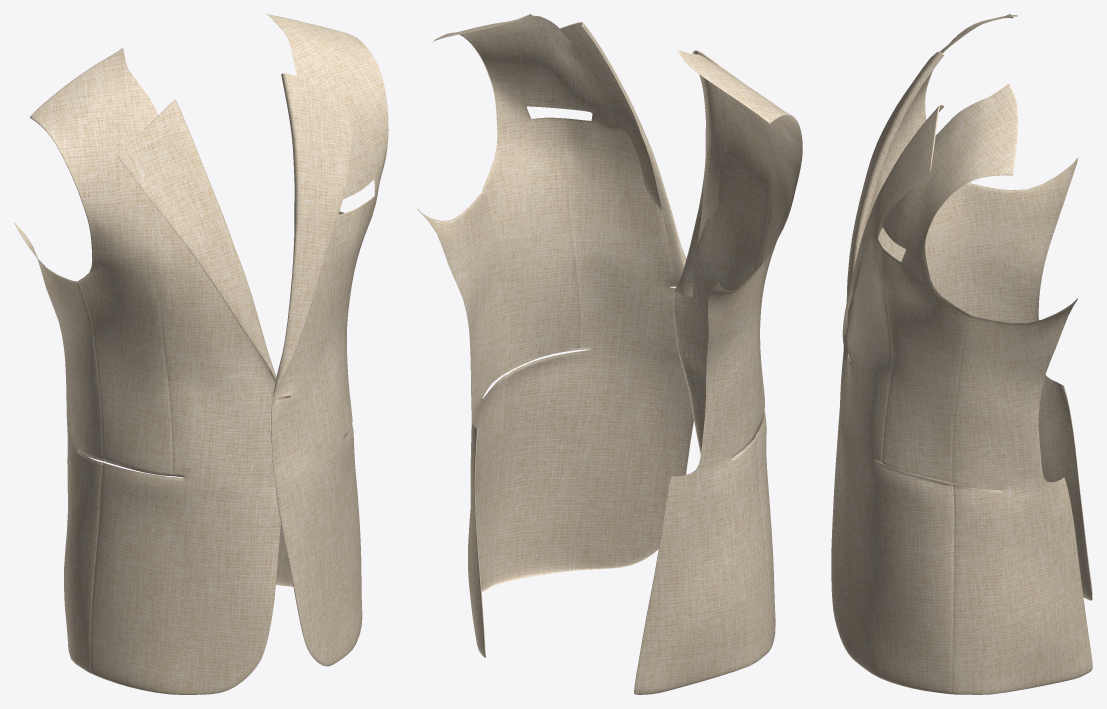
File: notch_single_button.glb
3 views of the same model, side by side, from view 1: azimuth 30°, elevation 25°; view 2: azimuth 150°, elevation 25°; view 3: azimuth 270°, elevation 25° (orthographic). The views are drawn at different scales.
Parts seen in each view (by area): view 1: notch_single_button1; view 2: notch_single_button1; view 3: notch_single_button1.
Part boxes in pixels (bbox=[...]): notch_single_button1: bbox=[14, 14, 388, 694]; notch_single_button1: bbox=[417, 14, 802, 694]; notch_single_button1: bbox=[831, 14, 1092, 694].
Size of the model in its own units: 0.0585 by 0.102 by 0.0411.
Materials: 2 (1 with a texture image).
